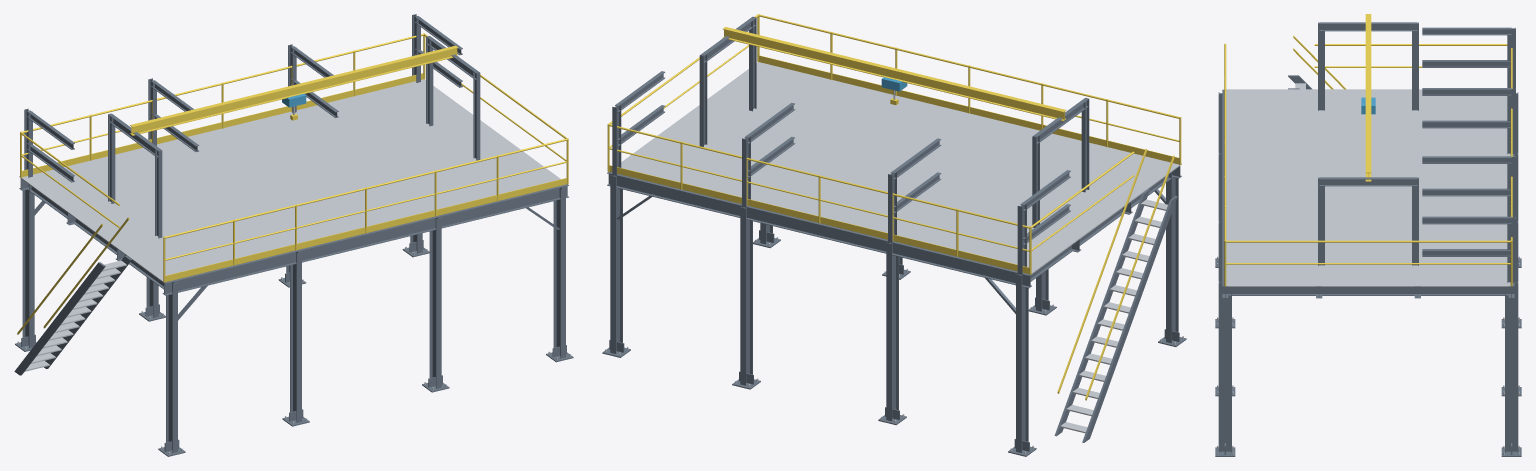
The model's file is STR-100_Structural_Mezzanine.glb.
3 views of the same model, side by side, from view 1: azimuth 30°, elevation 25°; view 2: azimuth 150°, elevation 25°; view 3: azimuth 270°, elevation 25° (orthographic). The views are drawn at different scales.
Visible parts, largest first — view 1: STR-100_013__Mezzanine_Deck_Center_Bay__DECK_GALVANIZED, STR-100_011__Mezzanine_Deck_North__DECK_GALVANIZED, STR-100_012__Mezzanine_Deck_South__DECK_GALVANIZED, STR-100_003__Column_ISMB300__STRUCTURAL_SLATE_IS800, STR-100_008__Longitudinal_Girder_ISMB300__STRUCTURAL_SLATE_I, STR-100_017__OSHA_Toeboard_Kickplate__SAFETY_YELLOW_OSHA, STR-100_040__Monorail_5Ton_Hoist_Beam__SAFETY_YELLOW_OSHA, STR-100_038__Gantry_Portal_Post__STRUCTURAL_SLATE_IS800, STR-100_014__OSHA_Handrail_Top__SAFETY_YELLOW_OSHA, STR-100_022__Stair_Stringer_Channel__STRUCTURAL_SLATE_IS800, STR-100_005__PipeRack_Upper_Stanchion__STRUCTURAL_SLATE_IS80, STR-100_007__PipeRack_Tier2_Arm__STRUCTURAL_SLATE_IS800 (+8 smaller); view 2: STR-100_012__Mezzanine_Deck_South__DECK_GALVANIZED, STR-100_013__Mezzanine_Deck_Center_Bay__DECK_GALVANIZED, STR-100_011__Mezzanine_Deck_North__DECK_GALVANIZED, STR-100_003__Column_ISMB300__STRUCTURAL_SLATE_IS800, STR-100_008__Longitudinal_Girder_ISMB300__STRUCTURAL_SLATE_I, STR-100_017__OSHA_Toeboard_Kickplate__SAFETY_YELLOW_OSHA, STR-100_040__Monorail_5Ton_Hoist_Beam__SAFETY_YELLOW_OSHA, STR-100_022__Stair_Stringer_Channel__STRUCTURAL_SLATE_IS800, STR-100_038__Gantry_Portal_Post__STRUCTURAL_SLATE_IS800, STR-100_005__PipeRack_Upper_Stanchion__STRUCTURAL_SLATE_IS80, STR-100_014__OSHA_Handrail_Top__SAFETY_YELLOW_OSHA, STR-100_007__PipeRack_Tier2_Arm__STRUCTURAL_SLATE_IS800 (+8 smaller); view 3: STR-100_012__Mezzanine_Deck_South__DECK_GALVANIZED, STR-100_013__Mezzanine_Deck_Center_Bay__DECK_GALVANIZED, STR-100_011__Mezzanine_Deck_North__DECK_GALVANIZED, STR-100_003__Column_ISMB300__STRUCTURAL_SLATE_IS800, STR-100_007__PipeRack_Tier2_Arm__STRUCTURAL_SLATE_IS800, STR-100_006__PipeRack_Tier1_Arm__STRUCTURAL_SLATE_IS800, STR-100_009__Transverse_Girder_ISMB300__STRUCTURAL_SLATE_IS8, STR-100_038__Gantry_Portal_Post__STRUCTURAL_SLATE_IS800, STR-100_005__PipeRack_Upper_Stanchion__STRUCTURAL_SLATE_IS80, STR-100_039__Gantry_Crossbeam__STRUCTURAL_SLATE_IS800, STR-100_040__Monorail_5Ton_Hoist_Beam__SAFETY_YELLOW_OSHA, STR-100_014__OSHA_Handrail_Top__SAFETY_YELLOW_OSHA (+5 smaller).
Part boxes in pixels (x1,y1,x2,y2): STR-100_013__Mezzanine_Deck_Center_Bay__DECK_GALVANIZED: [69, 114, 518, 247]; STR-100_011__Mezzanine_Deck_North__DECK_GALVANIZED: [21, 79, 471, 213]; STR-100_012__Mezzanine_Deck_South__DECK_GALVANIZED: [116, 148, 560, 282]; STR-100_003__Column_ISMB300__STRUCTURAL_SLATE_IS800: [22, 184, 565, 453]; STR-100_008__Longitudinal_Girder_ISMB300__STRUCTURAL_SLATE_I: [19, 176, 568, 295]; STR-100_017__OSHA_Toeboard_Kickplate__SAFETY_YELLOW_OSHA: [22, 73, 566, 281]; STR-100_040__Monorail_5Ton_Hoist_Beam__SAFETY_YELLOW_OSHA: [130, 45, 458, 135]; STR-100_038__Gantry_Portal_Post__STRUCTURAL_SLATE_IS800: [108, 36, 480, 238]; STR-100_014__OSHA_Handrail_Top__SAFETY_YELLOW_OSHA: [21, 33, 567, 238]; STR-100_022__Stair_Stringer_Channel__STRUCTURAL_SLATE_IS800: [14, 255, 131, 375]; STR-100_005__PipeRack_Upper_Stanchion__STRUCTURAL_SLATE_IS80: [24, 14, 420, 177]; STR-100_007__PipeRack_Tier2_Arm__STRUCTURAL_SLATE_IS800: [27, 16, 462, 149]; STR-100_012__Mezzanine_Deck_South__DECK_GALVANIZED: [708, 62, 1180, 202]; STR-100_013__Mezzanine_Deck_Center_Bay__DECK_GALVANIZED: [659, 98, 1129, 238]; STR-100_011__Mezzanine_Deck_North__DECK_GALVANIZED: [621, 134, 1080, 274]; STR-100_003__Column_ISMB300__STRUCTURAL_SLATE_IS800: [610, 172, 1178, 452]; STR-100_008__Longitudinal_Girder_ISMB300__STRUCTURAL_SLATE_I: [607, 163, 1181, 288]; STR-100_017__OSHA_Toeboard_Kickplate__SAFETY_YELLOW_OSHA: [609, 55, 1179, 273]; STR-100_040__Monorail_5Ton_Hoist_Beam__SAFETY_YELLOW_OSHA: [723, 27, 1066, 121]; STR-100_022__Stair_Stringer_Channel__STRUCTURAL_SLATE_IS800: [1054, 189, 1177, 442]; STR-100_038__Gantry_Portal_Post__STRUCTURAL_SLATE_IS800: [699, 16, 1089, 227]; STR-100_005__PipeRack_Upper_Stanchion__STRUCTURAL_SLATE_IS80: [612, 103, 1026, 274]; STR-100_014__OSHA_Handrail_Top__SAFETY_YELLOW_OSHA: [608, 14, 1179, 228]; STR-100_007__PipeRack_Tier2_Arm__STRUCTURAL_SLATE_IS800: [615, 71, 1070, 211]; STR-100_012__Mezzanine_Deck_South__DECK_GALVANIZED: [1225, 89, 1321, 286]; STR-100_013__Mezzanine_Deck_Center_Bay__DECK_GALVANIZED: [1321, 89, 1415, 286]; STR-100_011__Mezzanine_Deck_North__DECK_GALVANIZED: [1415, 89, 1510, 286]; STR-100_003__Column_ISMB300__STRUCTURAL_SLATE_IS800: [1218, 92, 1518, 452]; STR-100_007__PipeRack_Tier2_Arm__STRUCTURAL_SLATE_IS800: [1422, 27, 1511, 224]; STR-100_006__PipeRack_Tier1_Arm__STRUCTURAL_SLATE_IS800: [1422, 60, 1510, 256]; STR-100_009__Transverse_Girder_ISMB300__STRUCTURAL_SLATE_IS8: [1226, 287, 1511, 295]; STR-100_038__Gantry_Portal_Post__STRUCTURAL_SLATE_IS800: [1318, 22, 1418, 265]; STR-100_005__PipeRack_Upper_Stanchion__STRUCTURAL_SLATE_IS80: [1507, 27, 1515, 282]; STR-100_039__Gantry_Crossbeam__STRUCTURAL_SLATE_IS800: [1319, 22, 1417, 186]; STR-100_040__Monorail_5Ton_Hoist_Beam__SAFETY_YELLOW_OSHA: [1365, 14, 1371, 181]; STR-100_014__OSHA_Handrail_Top__SAFETY_YELLOW_OSHA: [1224, 44, 1512, 240].
Size of the model in its own units: 11.17 by 6.53 by 6.85.
